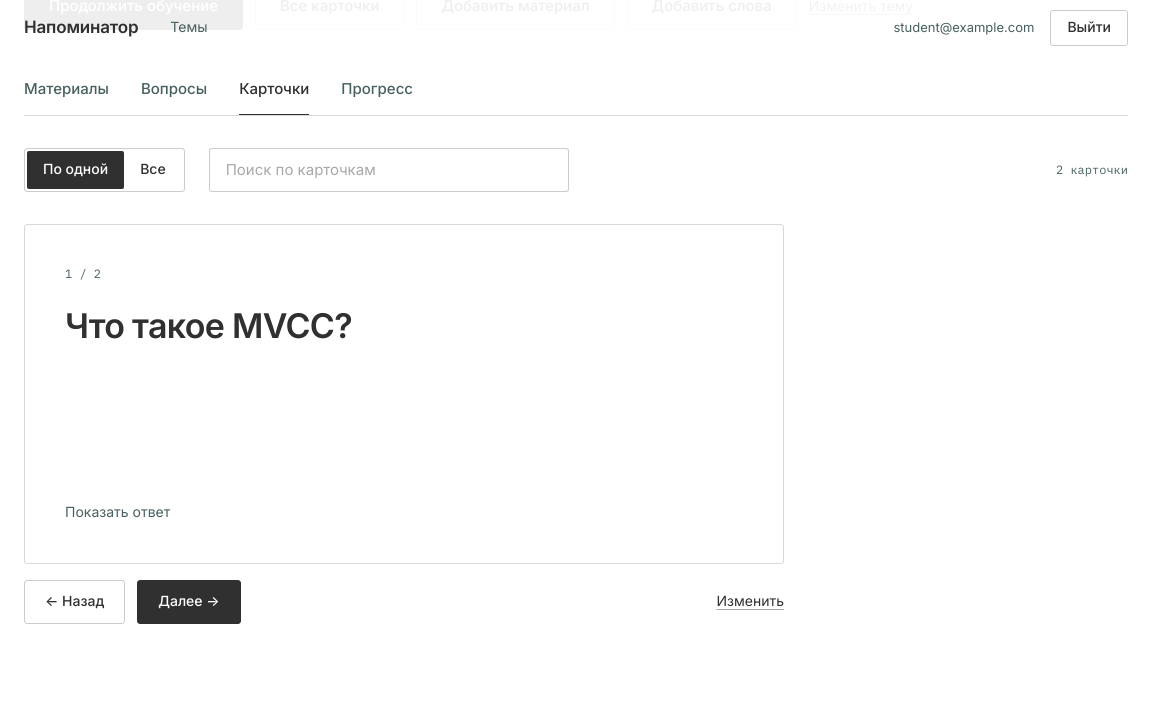
Экран карточек › листает карточки по одной и показывает все сразу
This screenshot has width=1152, height=720.
(page scrolled)
Expected: the text "1 / 2" is shown, [65,266,101,281]
Expected: the text "Что такое xmin?" is not shown
Click the button "Далее →" at (189, 602), box [137,580,241,624]
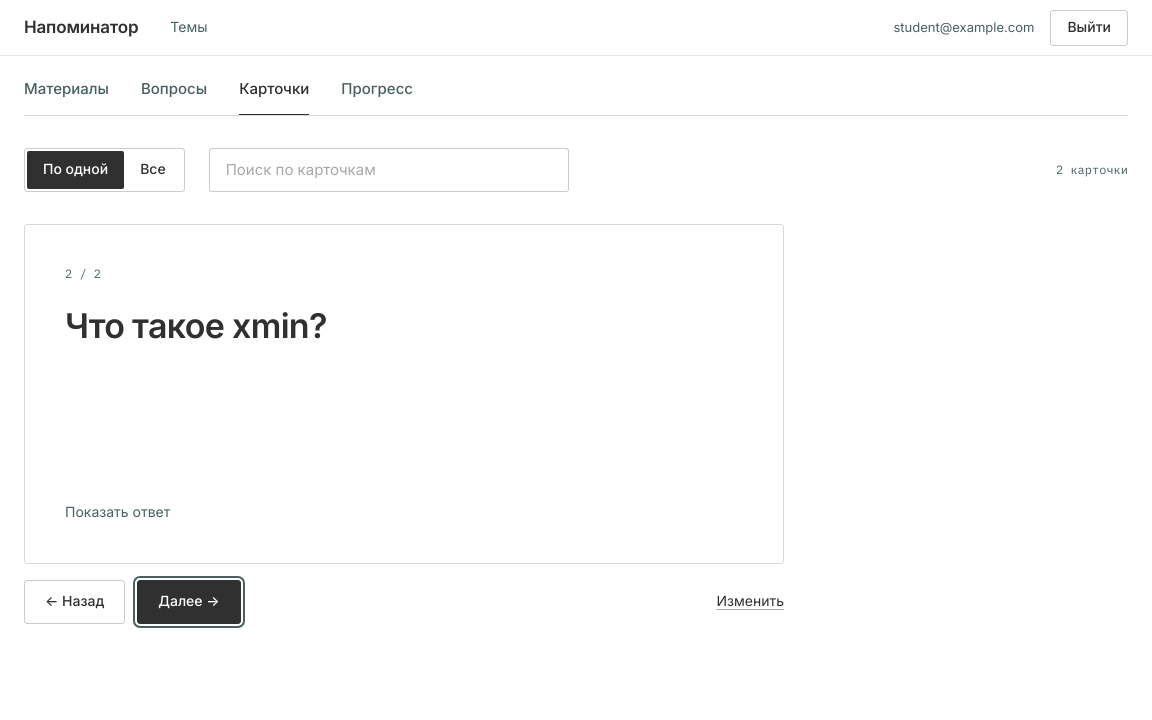
Now the text "2 / 2" is shown, box [65,266,101,281]
Click the button "Все" at (153, 170), box [124,151,182,189]
(page scrolled)
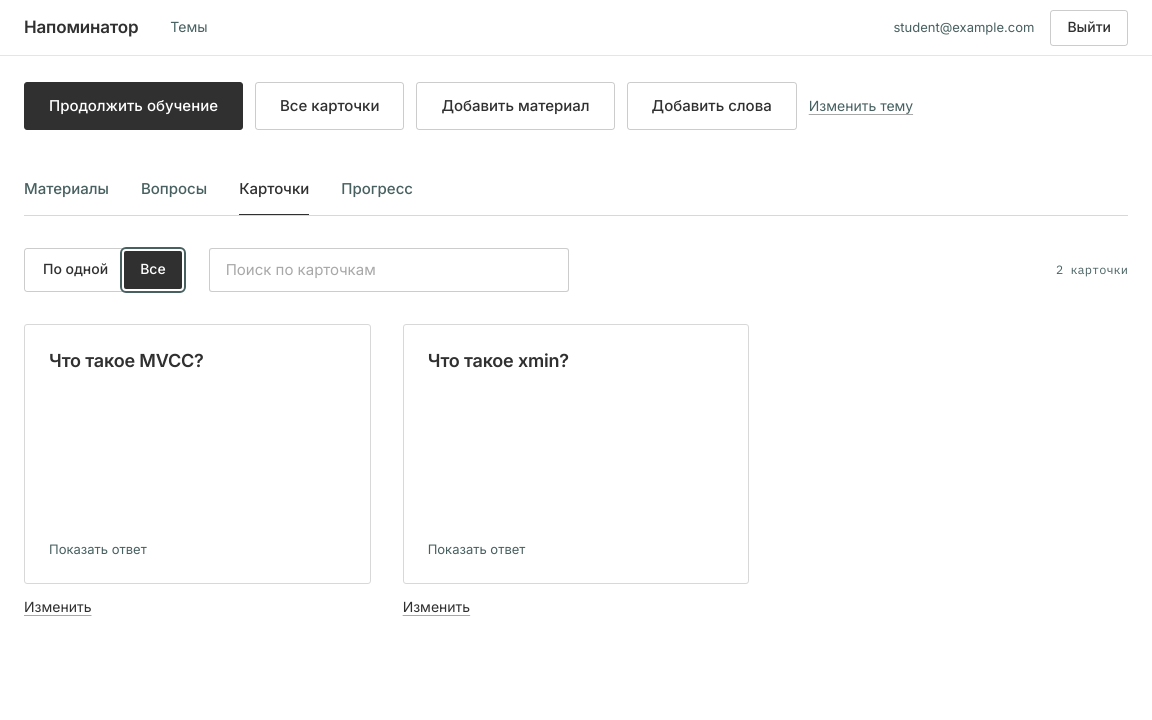
Now the text "Что такое xmin?" is shown, box [428,349,569,372]
Now the text "Что такое MVCC?" is shown, box [49,349,204,372]
Now the number of buttons "Изменить" is 2, box [24,592,92,624]; [403,592,470,624]
